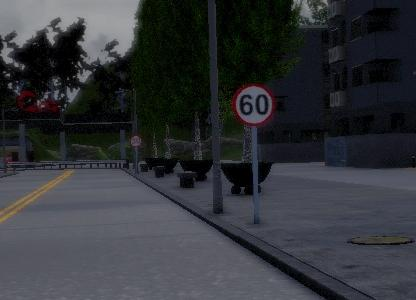Speed_60: (233, 82, 276, 127)
